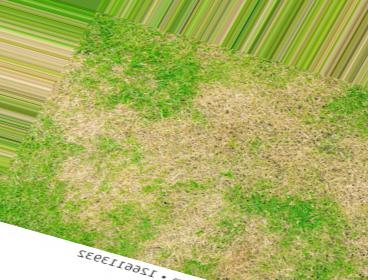patch: (210, 91, 288, 163), (118, 180, 217, 236), (96, 114, 183, 169), (242, 175, 328, 223), (237, 239, 290, 277)
